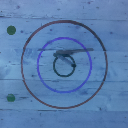Axe Tip: (61, 53, 70, 56)
